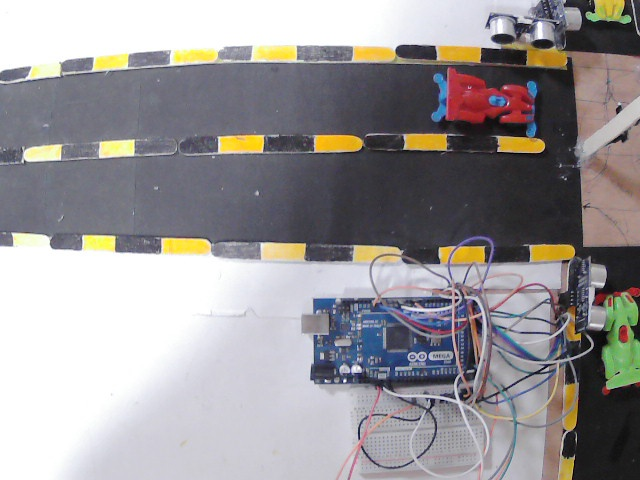black_strip: (296, 46, 352, 64), (264, 133, 312, 154), (561, 339, 582, 382), (480, 45, 524, 63), (306, 243, 350, 261), (213, 241, 257, 258), (448, 135, 495, 150), (365, 132, 403, 150), (133, 140, 177, 155), (62, 143, 98, 160), (401, 245, 435, 262), (179, 139, 217, 154), (117, 236, 157, 250), (487, 247, 527, 261), (1, 65, 30, 83), (52, 233, 82, 250), (129, 52, 171, 64), (394, 45, 434, 57), (59, 60, 91, 75), (559, 432, 578, 456), (217, 49, 249, 63), (0, 148, 22, 162), (0, 228, 11, 243)
car: (430, 63, 541, 131), (595, 282, 638, 393), (586, 0, 631, 27)
mixed_lane: (6, 42, 562, 80), (4, 231, 594, 266), (0, 129, 540, 161), (559, 310, 582, 476)
uno_breadboard: (305, 299, 489, 385), (344, 393, 500, 471), (564, 258, 615, 330), (480, 11, 562, 45), (531, 0, 575, 35)
yellow_strip: (219, 135, 263, 156), (313, 134, 363, 152), (496, 134, 544, 152), (354, 244, 401, 262), (260, 241, 306, 259), (438, 245, 485, 262), (404, 134, 448, 152), (527, 244, 577, 259), (563, 384, 580, 428), (351, 44, 393, 61), (526, 49, 564, 67), (435, 45, 479, 60), (250, 47, 292, 62), (97, 139, 134, 156), (161, 238, 211, 250), (84, 235, 116, 253), (175, 50, 215, 64), (25, 147, 62, 162), (567, 308, 581, 342), (95, 57, 129, 69), (560, 457, 574, 476), (13, 232, 31, 246), (30, 63, 42, 78)
